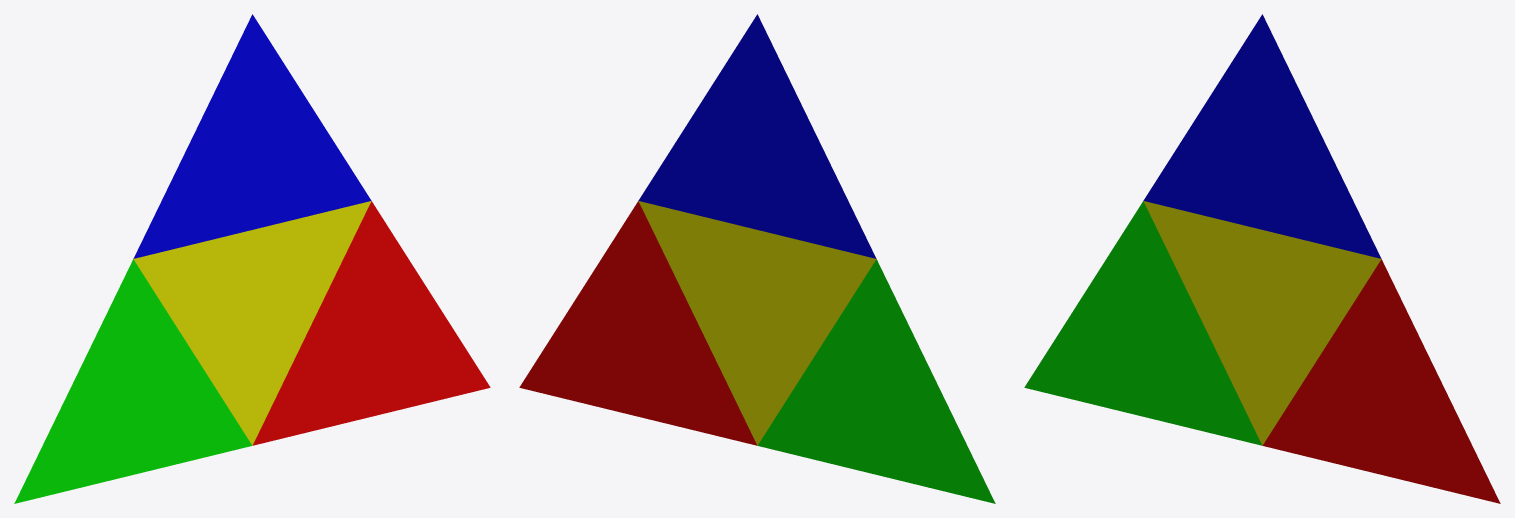
Rendered from KR210R2700prime_dp3_Rep.dae.
The picture shows the model from 3 angles, left to right: view 1: azimuth 30°, elevation 25°; view 2: azimuth 150°, elevation 25°; view 3: azimuth 330°, elevation 25°; orthographic projection.
Parts seen in each view (by area): view 1: KR210R2700prime_dp3 (×4); view 2: KR210R2700prime_dp3 (×4); view 3: KR210R2700prime_dp3 (×4).
Part boxes in pixels (<box>): KR210R2700prime_dp3 (×4): <box>14,14,490,503</box>; KR210R2700prime_dp3 (×4): <box>519,14,995,503</box>; KR210R2700prime_dp3 (×4): <box>1024,14,1500,503</box>.
Bounding box in the file's own units: 0.75 × 0 × 0.6495.
